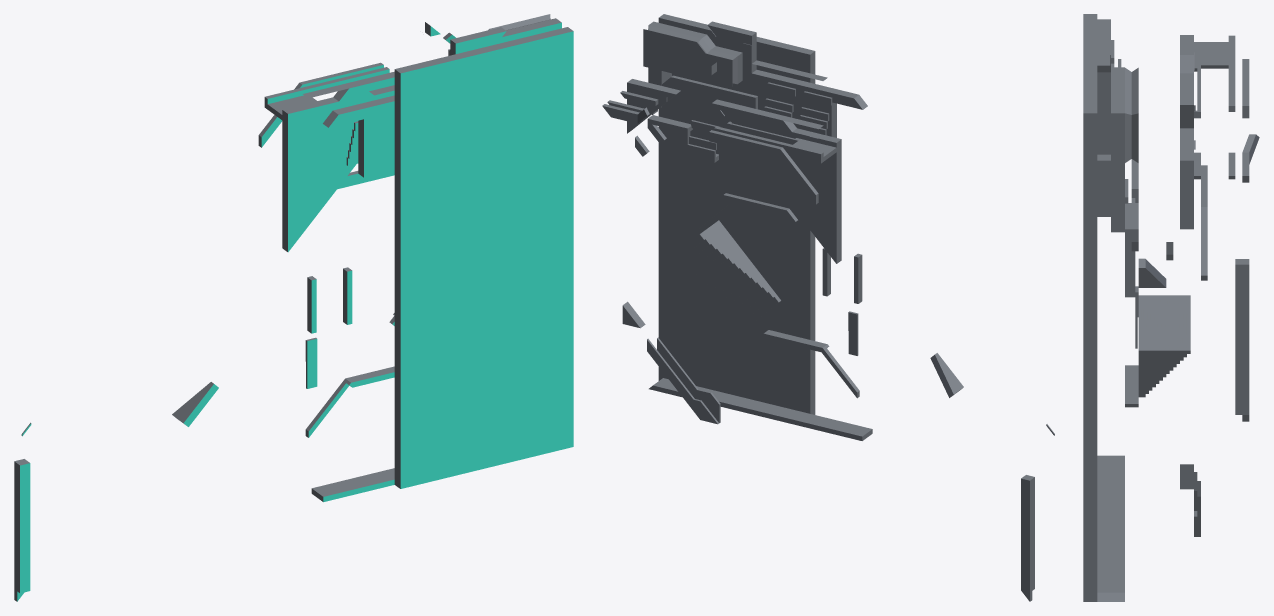
The model's file is zenith.glb.
3 renders of one model, left to right at view 1: azimuth 30°, elevation 25°; view 2: azimuth 150°, elevation 25°; view 3: azimuth 270°, elevation 25°, orthographic. The views are drawn at different scales.
Parts seen in each view (by area): view 1: Map_zenith; view 2: Map_zenith; view 3: Map_zenith.
Boxes of the visible parts, box(x1,y1,x2,y2) form: Map_zenith: box(14, 14, 573, 601); Map_zenith: box(602, 14, 1054, 601); Map_zenith: box(1083, 14, 1259, 601).
Size of the model in its own units: 98 by 96 by 25.5.
